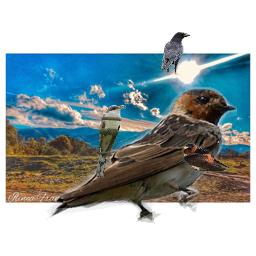Crow: (160, 32, 190, 75)
Cuckoo: (96, 105, 126, 178)
Swallow: (46, 85, 237, 224), (182, 143, 231, 172)
